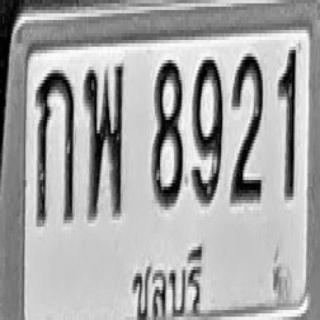A01: (36, 68, 74, 225)
A30: (83, 62, 124, 218)
N01: (278, 47, 296, 200)
N02: (230, 52, 263, 202)
N08: (151, 57, 183, 207)
N09: (192, 57, 222, 203)
P13: (129, 236, 206, 320)
